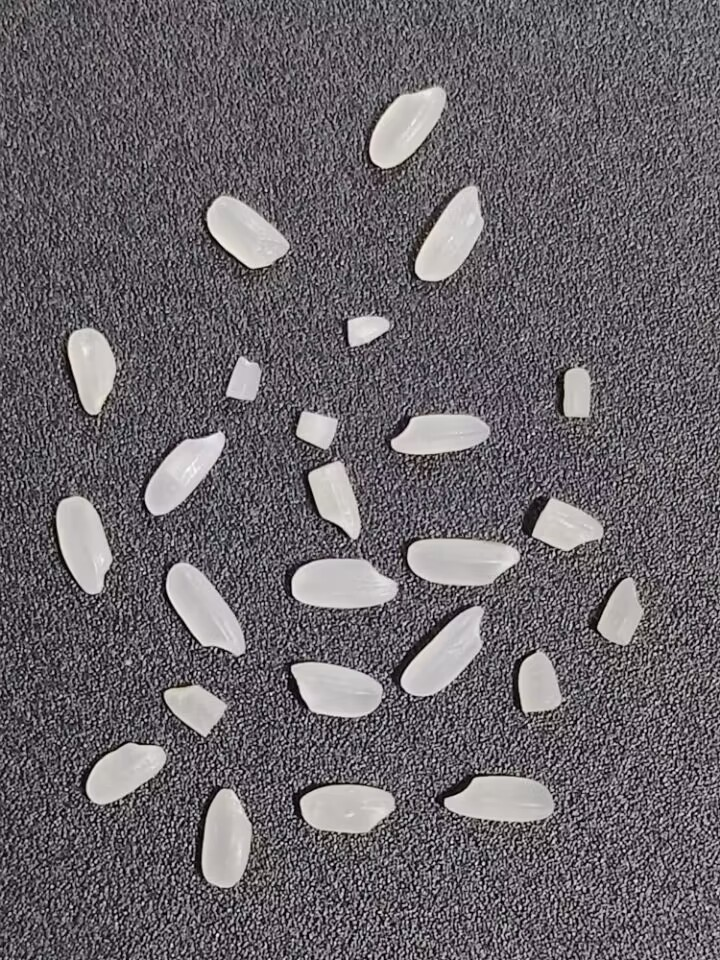broken: (305, 459, 361, 542), (531, 495, 605, 553), (594, 574, 645, 648), (162, 682, 227, 740), (516, 647, 564, 715), (221, 353, 267, 403), (559, 366, 595, 423), (293, 409, 339, 452), (342, 313, 395, 349)
rice: (398, 600, 488, 699), (163, 560, 248, 659), (141, 426, 230, 518), (413, 182, 484, 283), (367, 83, 447, 170), (205, 195, 290, 269), (53, 494, 114, 597), (290, 555, 400, 610), (403, 536, 521, 587), (83, 738, 168, 808), (199, 785, 253, 891), (442, 774, 553, 825), (289, 661, 384, 719), (295, 783, 396, 835), (64, 327, 117, 417), (388, 413, 492, 457)
